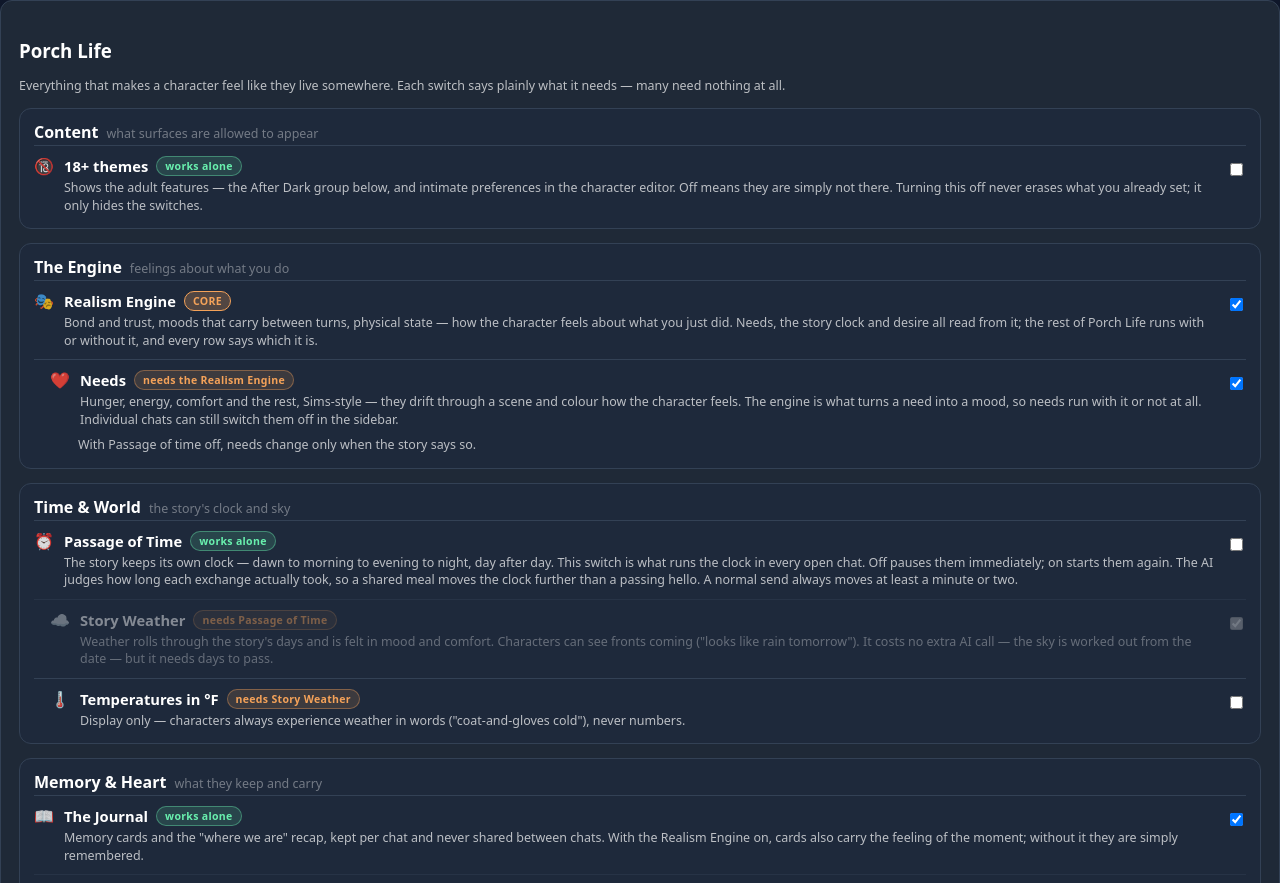
Scenario: Porch Life Needs row › drops the line when Passage of Time goes back on
This screenshot has width=1280, height=883.
Step 1. Click the checkbox named "Passage of Time" → (1236, 544), box [1230,538,1243,551]
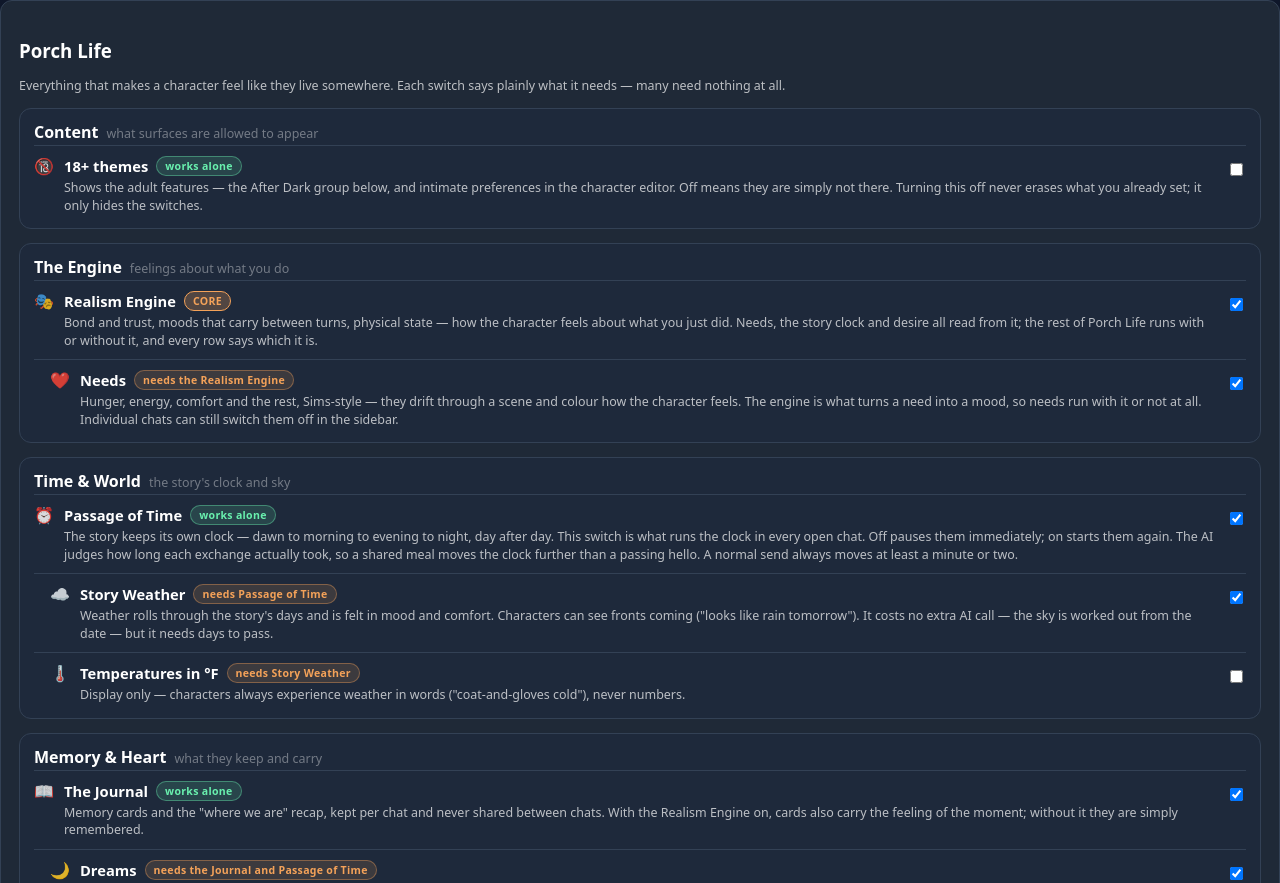
Expected: the text with class "needs-clock-off" is gone
Expected: the text "With Passage of time off, needs change only when the story says so." is gone
